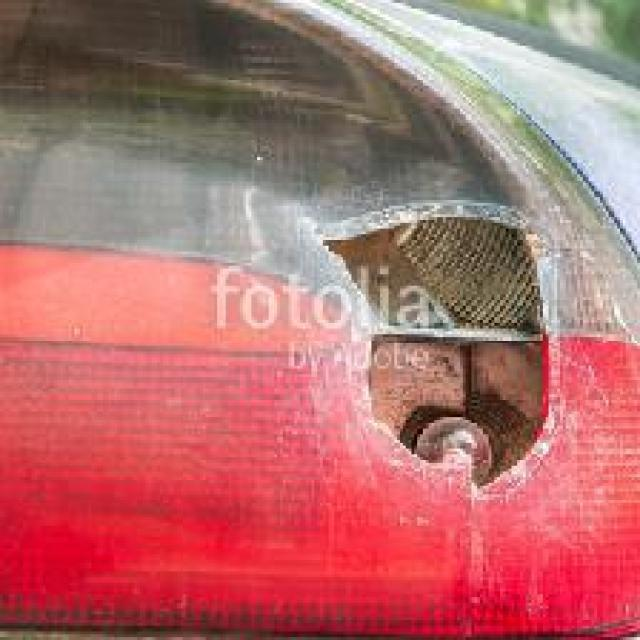damaged: (317, 212, 563, 497)
